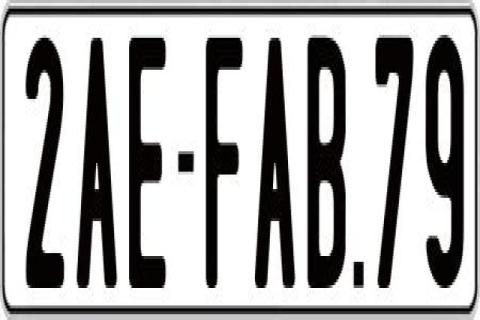0: (376, 35, 416, 299), (24, 35, 62, 294), (424, 32, 461, 294)
A: (255, 35, 301, 303), (76, 29, 122, 285)
B: (308, 32, 350, 294)
E: (128, 32, 166, 296)
F: (206, 35, 246, 288)
